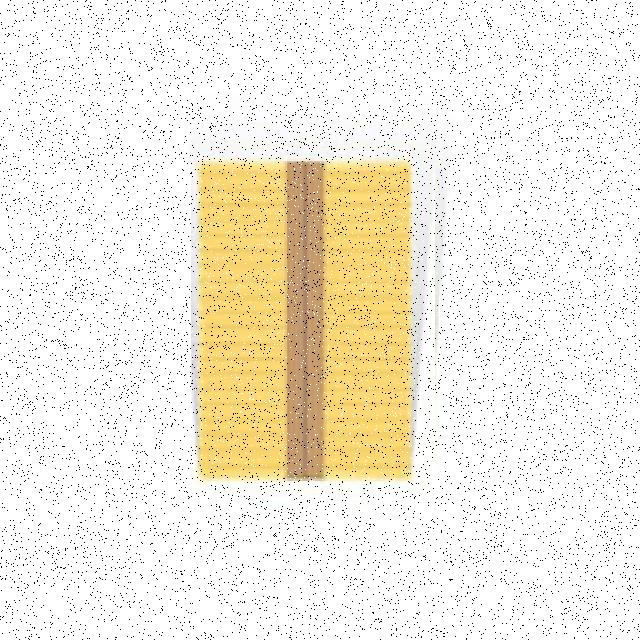normal: (191, 146, 435, 488)
